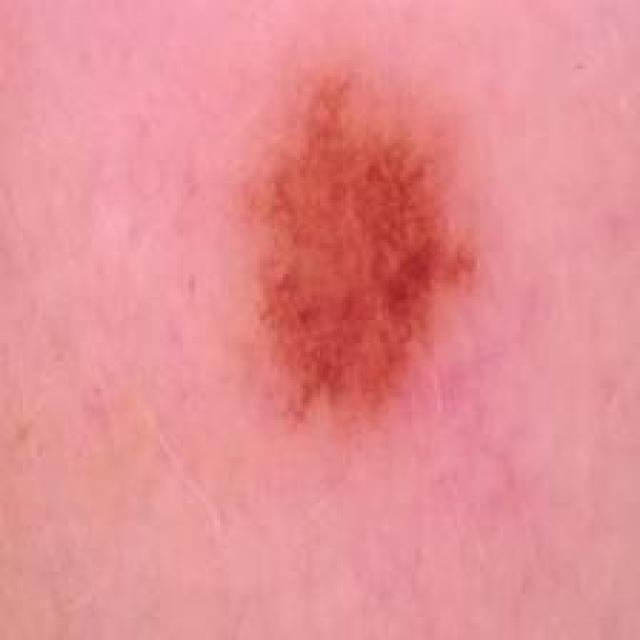Cancer: (234, 63, 477, 428)
